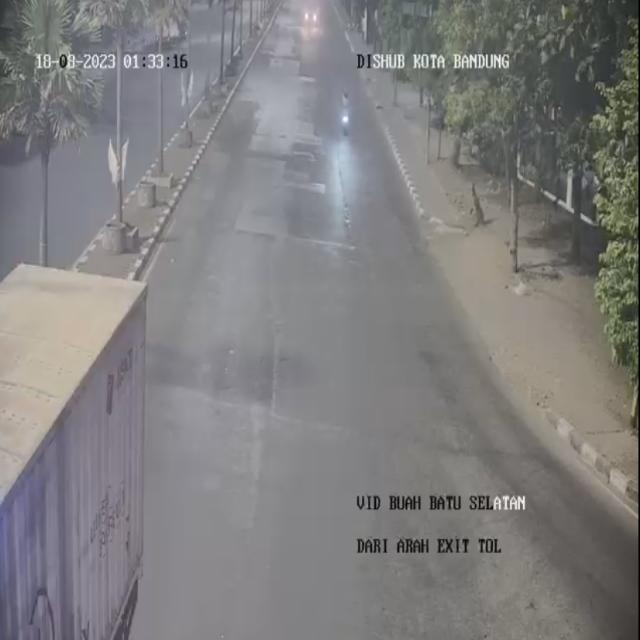motorcycle: (336, 85, 356, 142)
truck: (0, 257, 156, 639)
